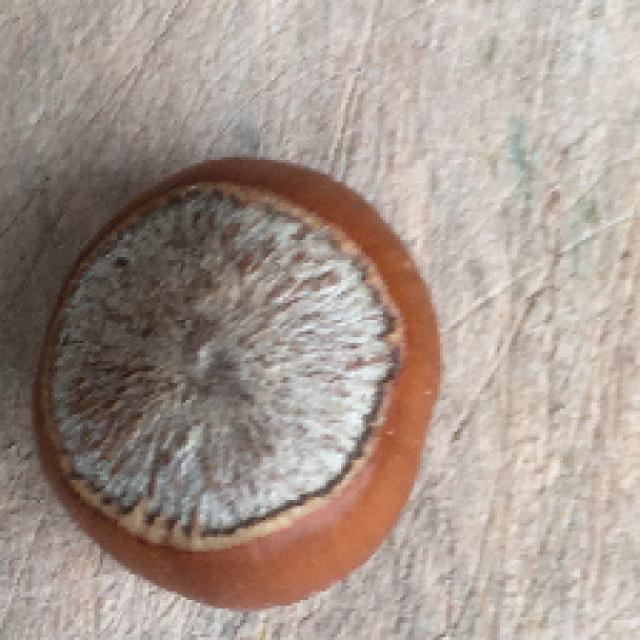qualityHazelnut: (31, 156, 447, 614)
